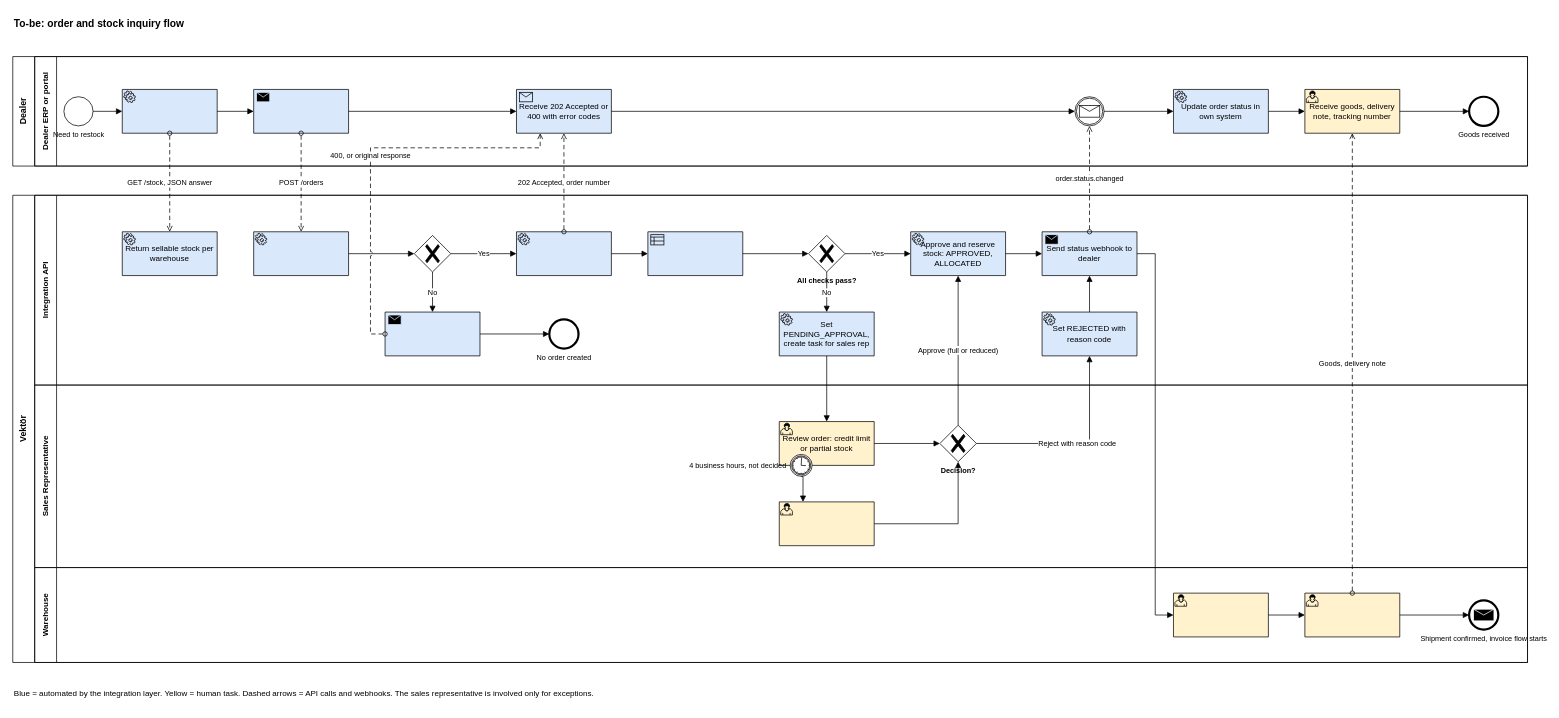
The diagram is 1559 pixels wide and 718 high, and some of its shapes have lost their labels. The centre of each missing label's shape, as x and y in pixels:
"Authenticate, validate schema, check Idempotency-Key" goes at point (301, 253).
"Confirm shipment: SHIPPED" goes at point (1352, 614).
"Pick, pack and ship" goes at point (1220, 614).
"Query stock: GET /stock" goes at point (169, 111).
"Register order as RECEIVED, return 202" goes at point (563, 253).
"Return 400 with error codes, or the original response for a duplicate" goes at point (432, 333).
"Run business rules: catalogue, MOQ, credit, stock" goes at point (695, 253).
"Sales manager decides" goes at point (826, 523).
"Status webhook" goes at point (1089, 111).
"Submit order: POST /orders with Idempotency-Key" goes at point (301, 111).
"Valid and new?" goes at point (432, 253).
